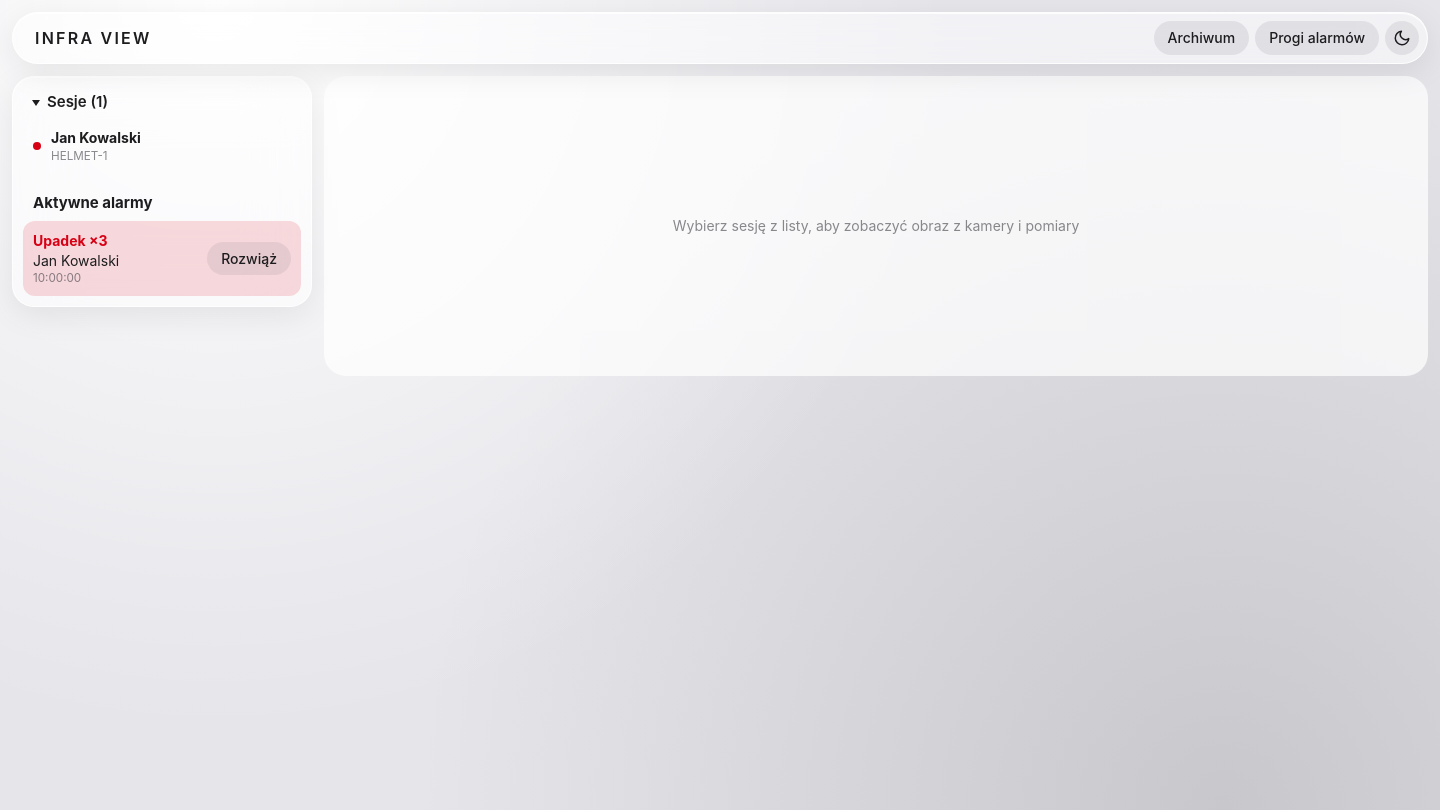
Test: grupuje powtórzone alarmy i rozwiązuje je jednym kliknięciem
expect the text "Upadek ×3" is shown: met, box [33,232,108,249]
Click the button "Rozwiąż". click: (249, 259)
box: [207,242,291,276]
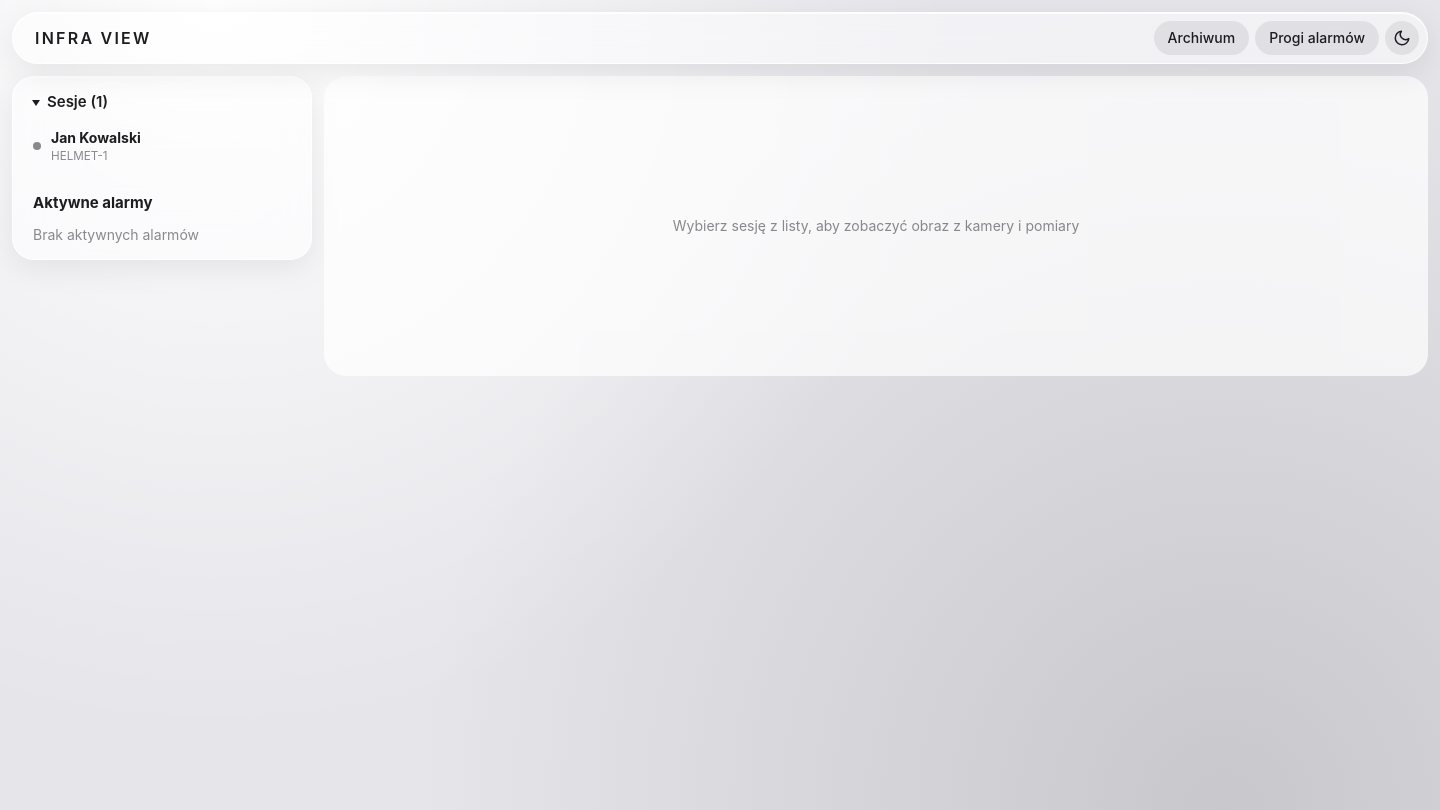
expect the text "Brak aktywnych alarmów" is shown: met, box [33,226,199,243]
